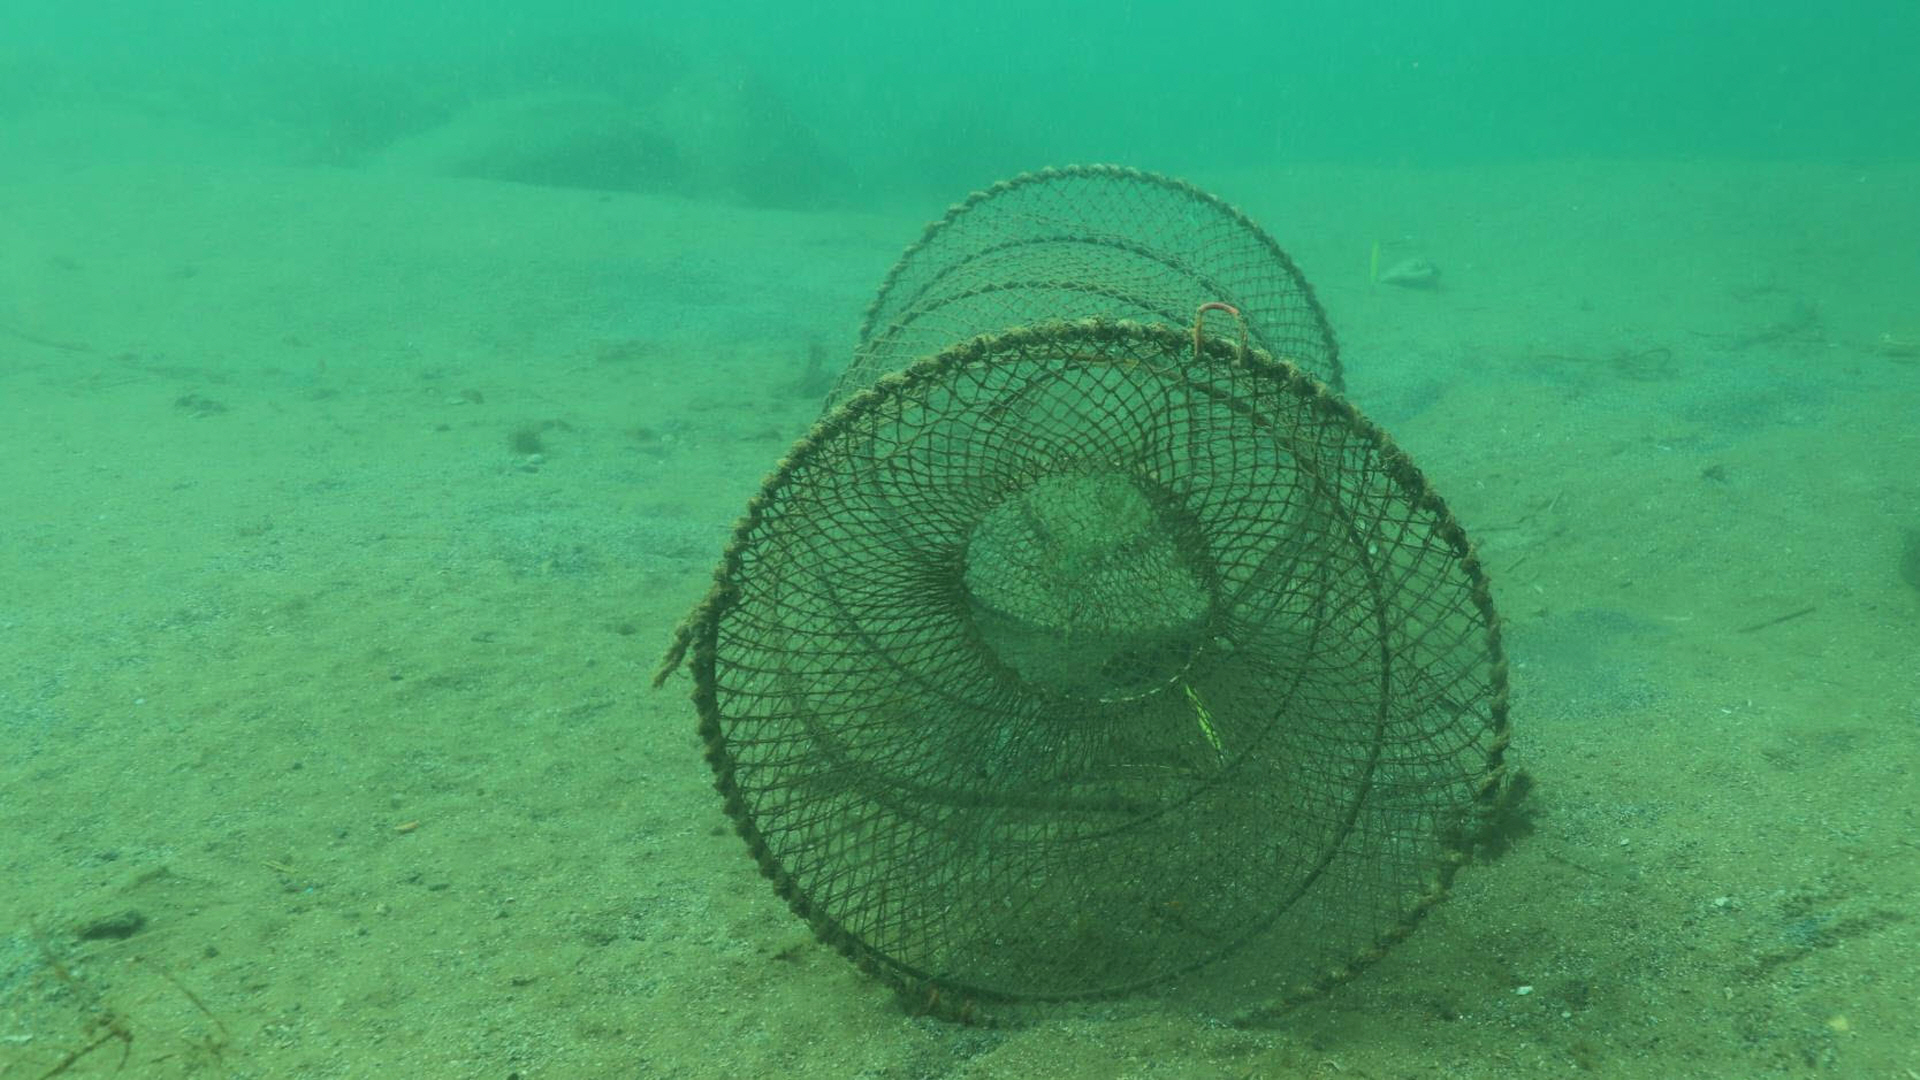spring fish trap: (686, 156, 1513, 1039)
